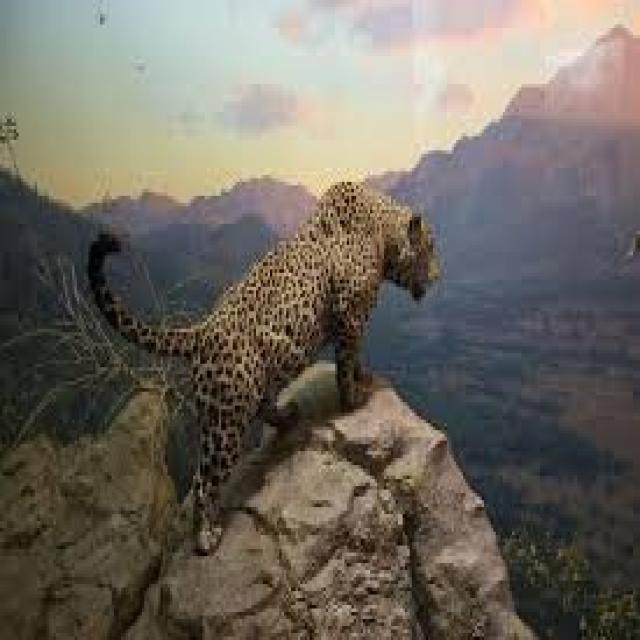Jaguar: (82, 178, 442, 560)
